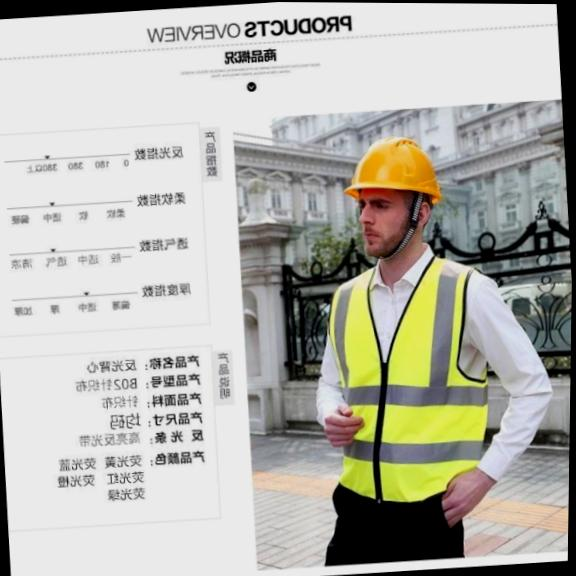safety_vest: (314, 234, 498, 494)
